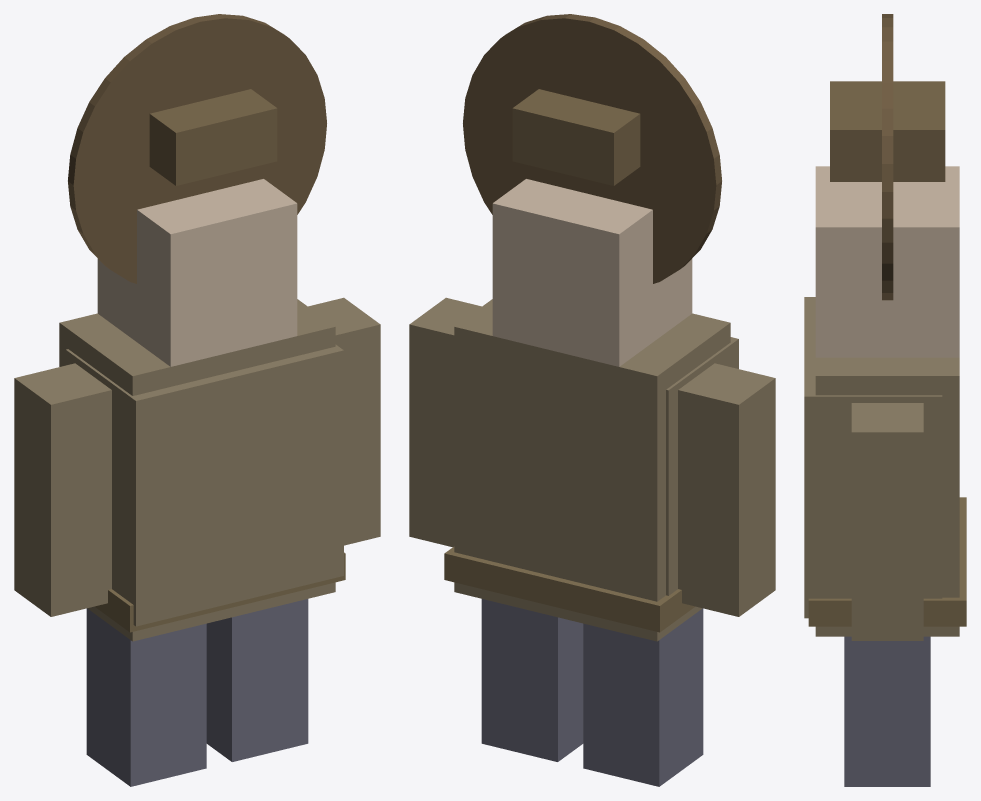
Rendered from character_hunter.glb.
3 views of the same model, side by side, from view 1: azimuth 30°, elevation 25°; view 2: azimuth 150°, elevation 25°; view 3: azimuth 270°, elevation 25° (orthographic).
Parts seen in each view (by area): view 1: geometry_0; view 2: geometry_0; view 3: geometry_0.
Boxes of the visible parts, x1,y1,x2,y2 form: geometry_0: [14, 14, 380, 786]; geometry_0: [409, 14, 775, 786]; geometry_0: [804, 14, 966, 786].
Size of the model in its own units: 1.3 by 2.75 by 0.565.
